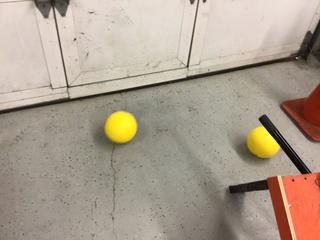power_cell: (101, 109, 143, 146), (245, 123, 285, 160)
